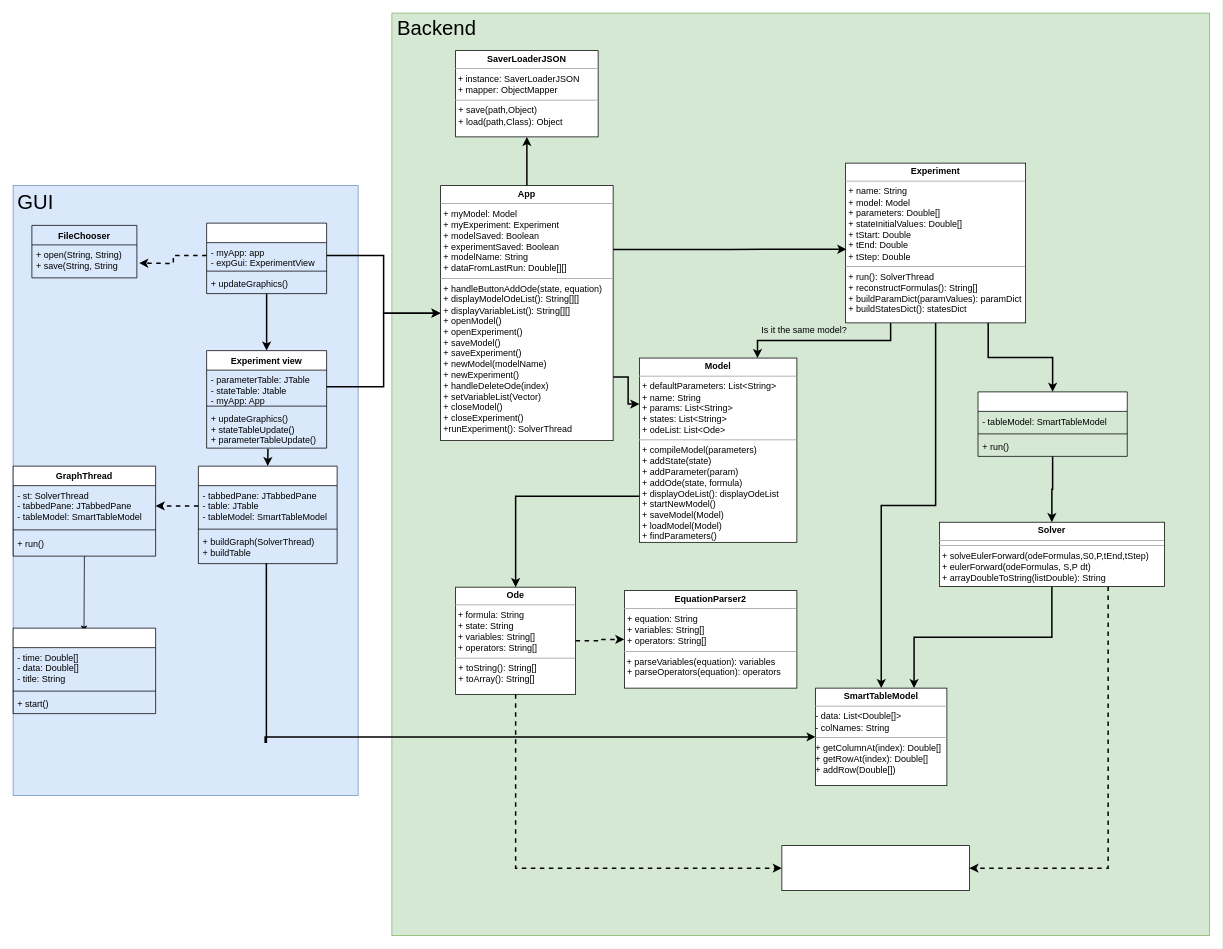
Image size: 1223x949. Some labels were removed from this diagram. The box of each missing label's shape, as (x1, y1, x2, y2) in pixels:
GraphBuilder: (12, 627, 156, 714)
SmartV2 GUI: (206, 222, 327, 294)
SolverThread: (977, 391, 1127, 456)
StdFSubber + substitute(String odeFormula) String: (781, 845, 969, 891)
TableViewer: (198, 465, 337, 564)
